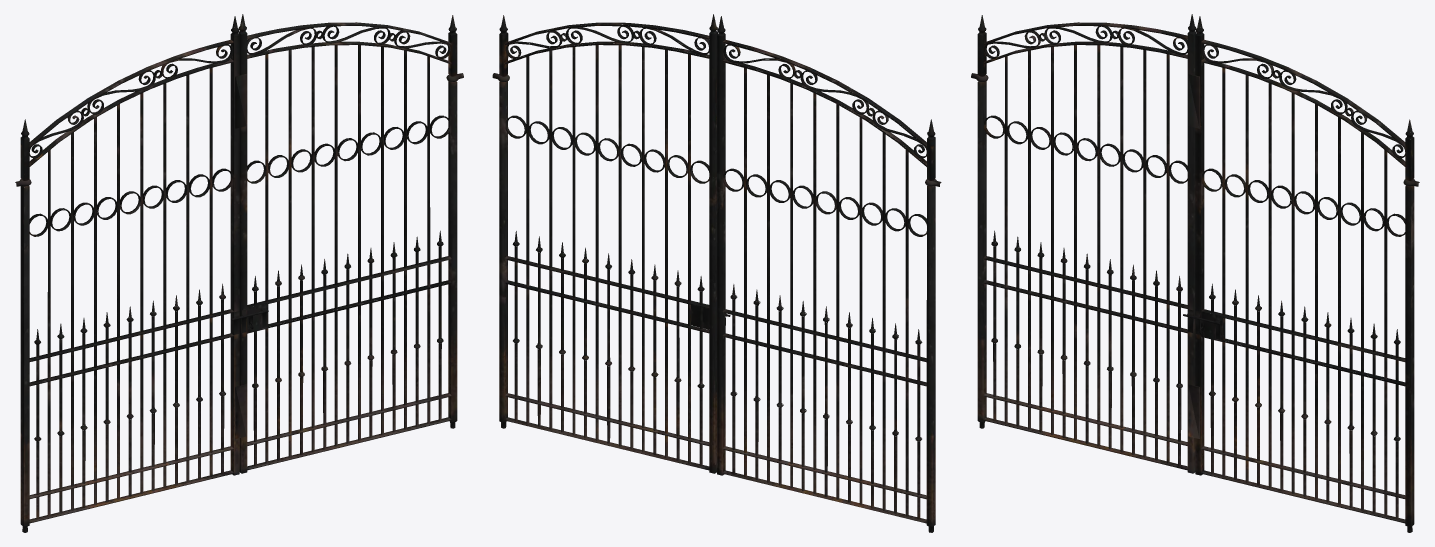
The model's file is gate_iron_ornate.glb.
The picture shows the model from 3 angles, left to right: view 1: azimuth 30°, elevation 25°; view 2: azimuth 150°, elevation 25°; view 3: azimuth 330°, elevation 25°; orthographic projection.
Parts seen in each view (by area): view 1: gate_iron_ornate; view 2: gate_iron_ornate; view 3: gate_iron_ornate.
Part boxes in pixels (box(x1,y1,x2,y2)): gate_iron_ornate: box(15, 14, 463, 532); gate_iron_ornate: box(492, 14, 941, 532); gate_iron_ornate: box(971, 14, 1419, 532).
Size of the model in its own units: 2.95 by 2.93 by 0.0977.
Materials: 1 (1 with a texture image).
